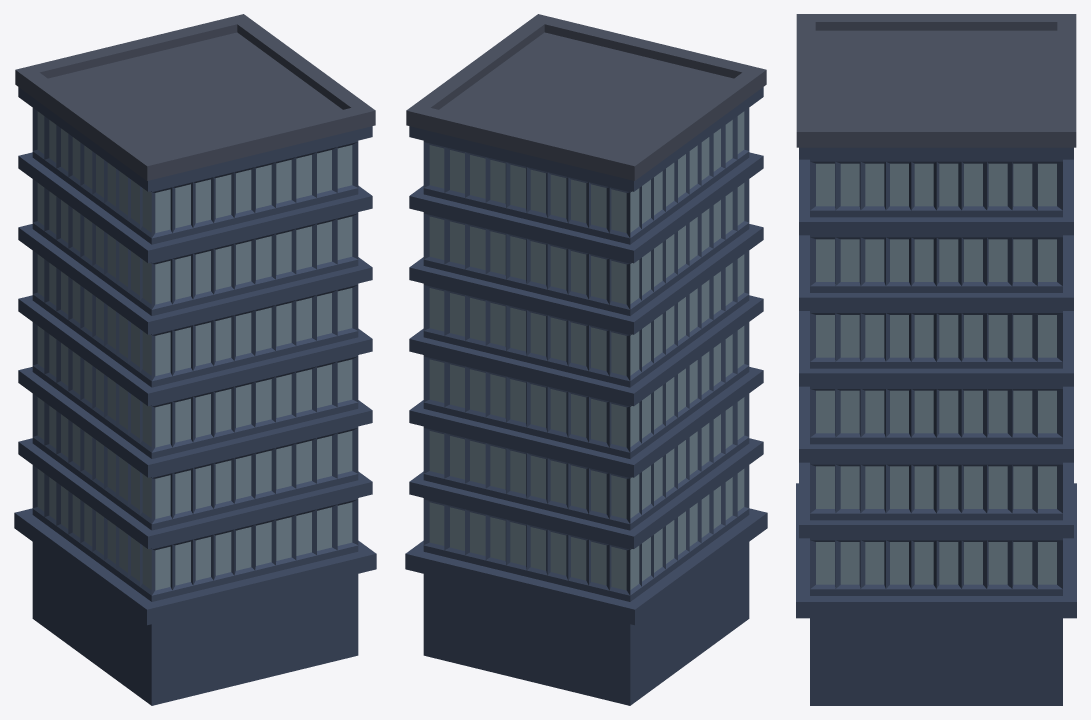
The model's file is flat 3.fbx.
The picture shows the model from 3 angles, left to right: view 1: azimuth 30°, elevation 25°; view 2: azimuth 150°, elevation 25°; view 3: azimuth 270°, elevation 25°; orthographic projection. The views are drawn at different scales.
Visible parts, largest first — view 1: Plane.001; view 2: Plane.001; view 3: Plane.001.
Boxes of the visible parts, <box> form: Plane.001: <box>14,14,376,705</box>; Plane.001: <box>405,14,767,705</box>; Plane.001: <box>796,14,1076,705</box>.
Size of the model in its own units: 222 by 506 by 222.
